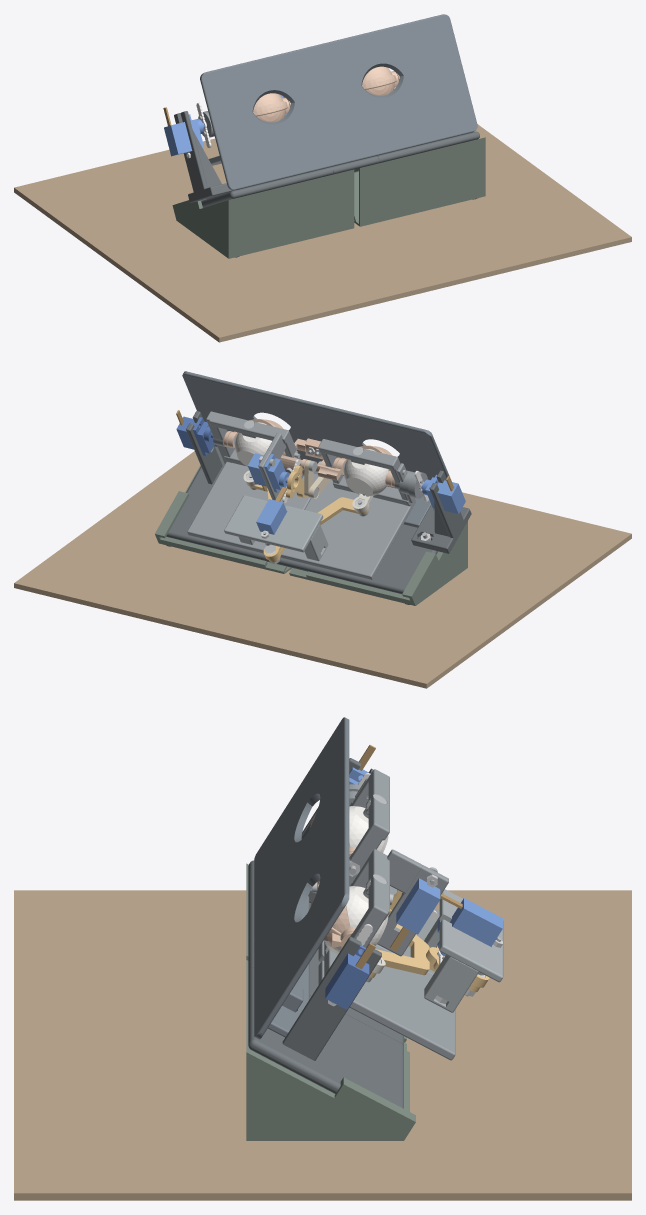
The model's file is assembly.glb.
The picture shows the model from 3 angles, top to bottom: view 1: azimuth 30°, elevation 25°; view 2: azimuth 150°, elevation 25°; view 3: azimuth 270°, elevation 25°; orthographic projection. The views are drawn at different scales.
Parts seen in each view (by area): view 1: masa, mask, kama_L, kama_R, sol_servo_braketi, base_L, base_R, servo_pitch_L, lid_up_L, lid_up_R; view 2: masa, mask, frame_L, frame_R, yaw_mount, kama_L, base_R, base_L, sol_servo_braketi, kama_R, eye_L, servo_lid (+8 smaller); view 3: masa, mask, base_R, kama_R, frame_R, yaw_mount, frame_L, base_L, servo_yaw, servo_pitch, servo_lid, coupler (+2 smaller).
Boxes of the visible parts, x1,y1,x2,y2 form: masa: (14, 124, 631, 342); mask: (200, 14, 477, 190); kama_L: (172, 169, 354, 258); kama_R: (354, 137, 485, 226); sol_servo_braketi: (174, 111, 234, 202); base_L: (201, 156, 378, 207); base_R: (333, 131, 479, 174); servo_pitch_L: (164, 114, 204, 156); lid_up_L: (253, 93, 289, 116); lid_up_R: (362, 66, 398, 89); masa: (14, 451, 631, 688); mask: (182, 371, 451, 527); frame_L: (280, 439, 415, 579); frame_R: (187, 411, 318, 553); yaw_mount: (224, 495, 328, 561); kama_L: (289, 521, 467, 605); base_R: (166, 411, 310, 571); base_L: (264, 524, 437, 593); sol_servo_braketi: (411, 470, 471, 553); kama_R: (155, 465, 291, 573); eye_L: (343, 449, 388, 496); servo_lid: (248, 453, 290, 492); masa: (14, 890, 631, 1200); mask: (254, 717, 349, 1039); base_R: (248, 936, 403, 1108); kama_R: (246, 960, 415, 1140); frame_R: (318, 849, 455, 1060); yaw_mount: (424, 889, 503, 1012); frame_L: (349, 769, 439, 974); base_L: (248, 860, 403, 1045); servo_yaw: (437, 898, 502, 955); servo_pitch: (325, 945, 369, 1009); servo_lid: (396, 878, 440, 934); coupler: (369, 924, 479, 992).
Bounding box in the file's own units: 360 × 138 × 310.
